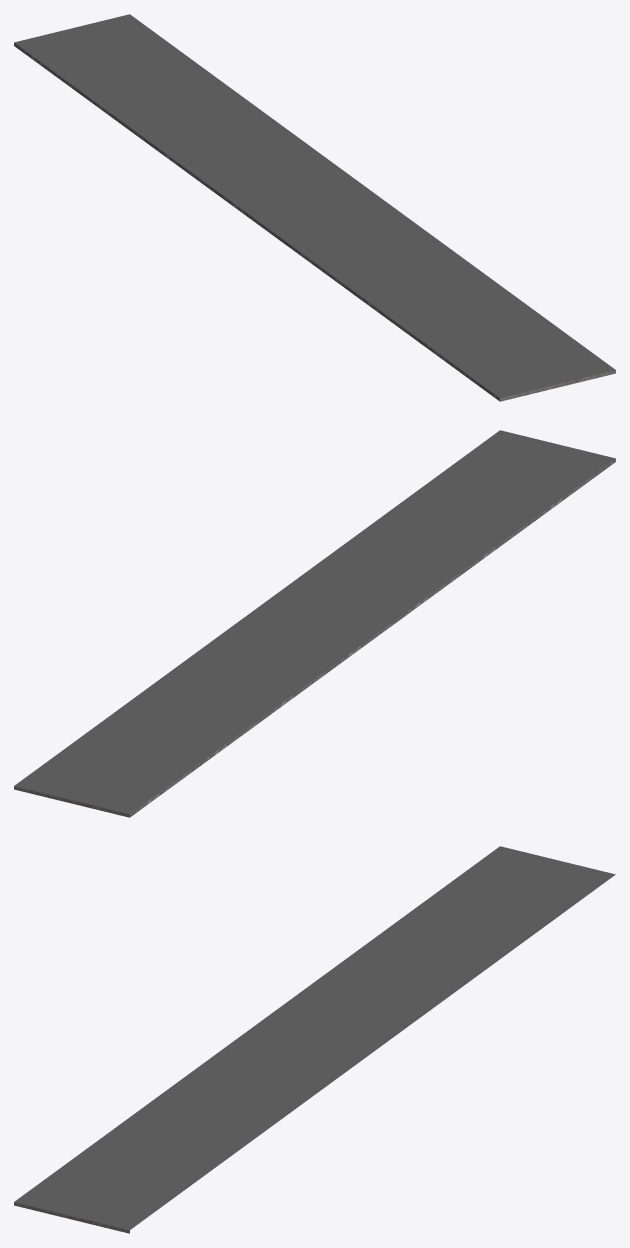
Rendered from ground.glb.
3 renders of one model, top to bottom at view 1: azimuth 30°, elevation 25°; view 2: azimuth 150°, elevation 25°; view 3: azimuth 330°, elevation 25°, orthographic.
Visible parts, largest first — view 1: 地面; view 2: 地面; view 3: 地面.
Part boxes in pixels (<box>): 地面: <box>14,14,615,401</box>; 地面: <box>14,430,615,817</box>; 地面: <box>14,846,615,1233</box>.
Bounding box in the file's own units: 3.5 × 0.1 × 25.43.
2 materials, 2 textured.
